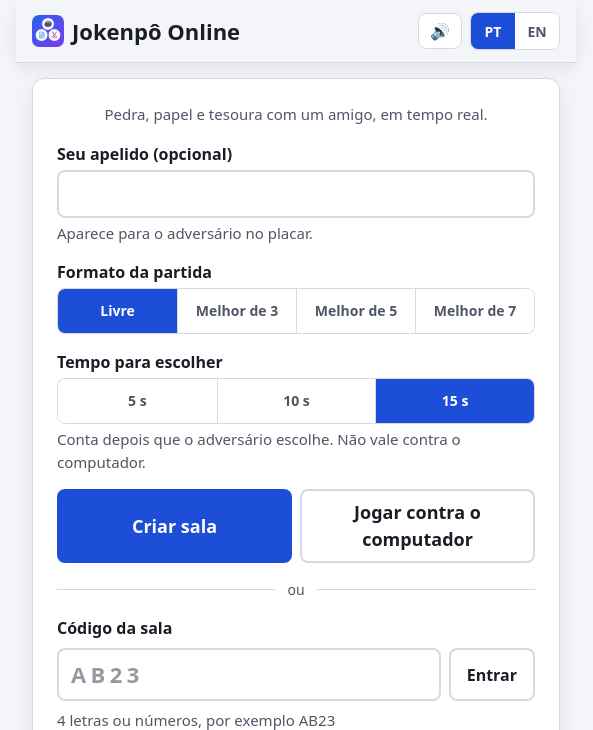
it: fase 5: formato, apelido e computador › o apelido digitado é salvo e aparece para o adversário
Type "Alice" into the field labelled "Seu apelido (opcional)" at {"x": 296, "y": 194}, box [57,170,535,218]
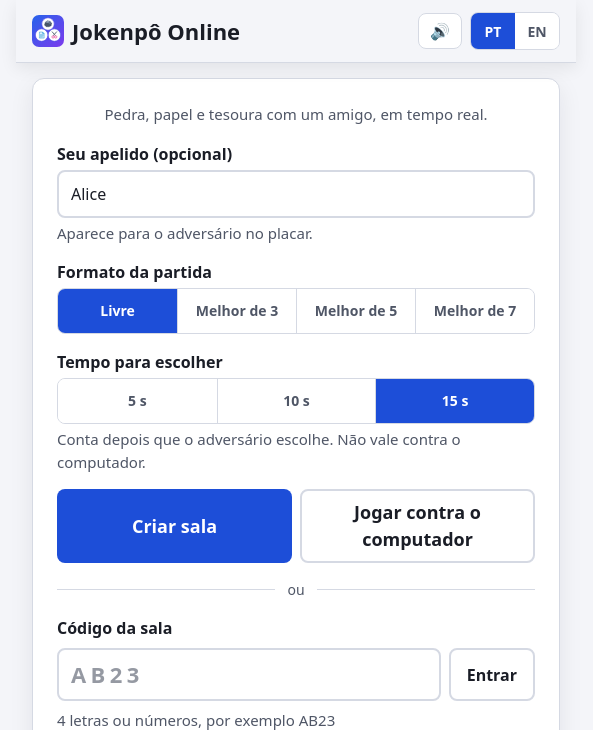
Click the button "Criar sala" at {"x": 174, "y": 526}, box [57,489,292,563]
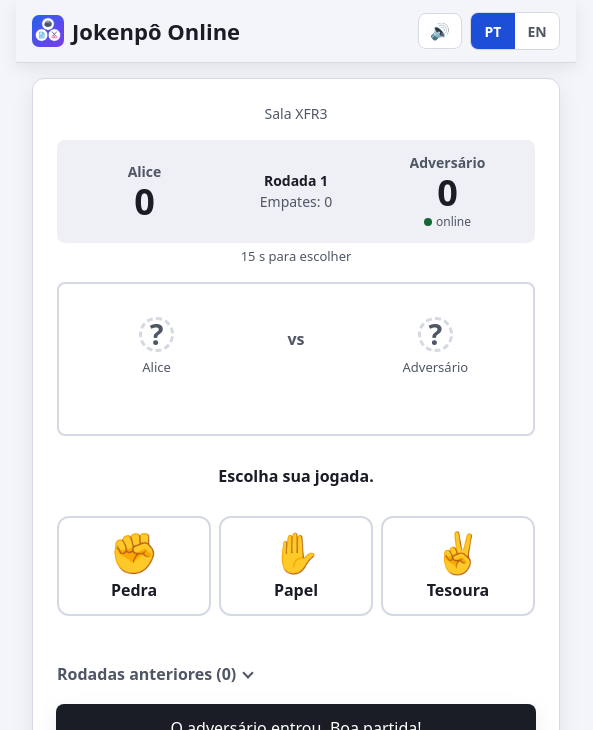
Result: the text "Alice" in the row of "Rodada 1" is shown at [128,162,161,181]
